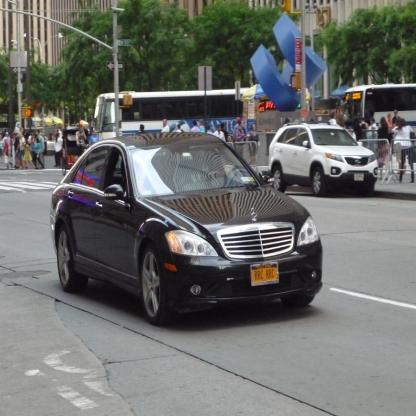Car: (51, 133, 324, 327), (270, 122, 379, 198)
